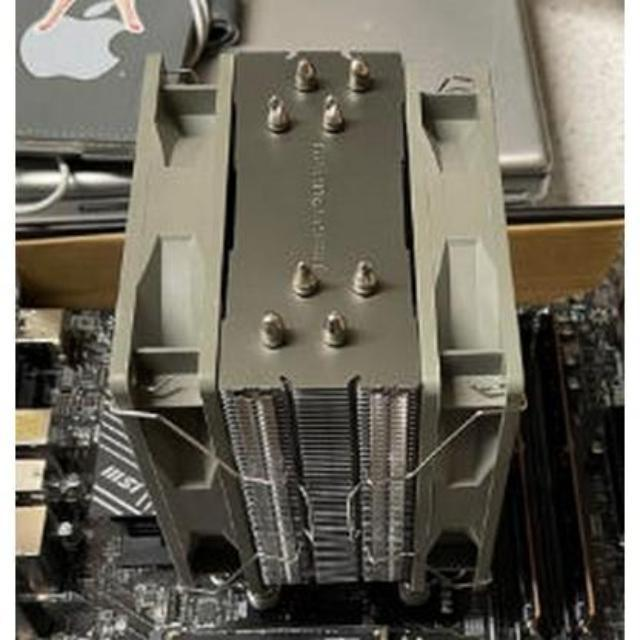CPU_Fan: (109, 45, 524, 606)
